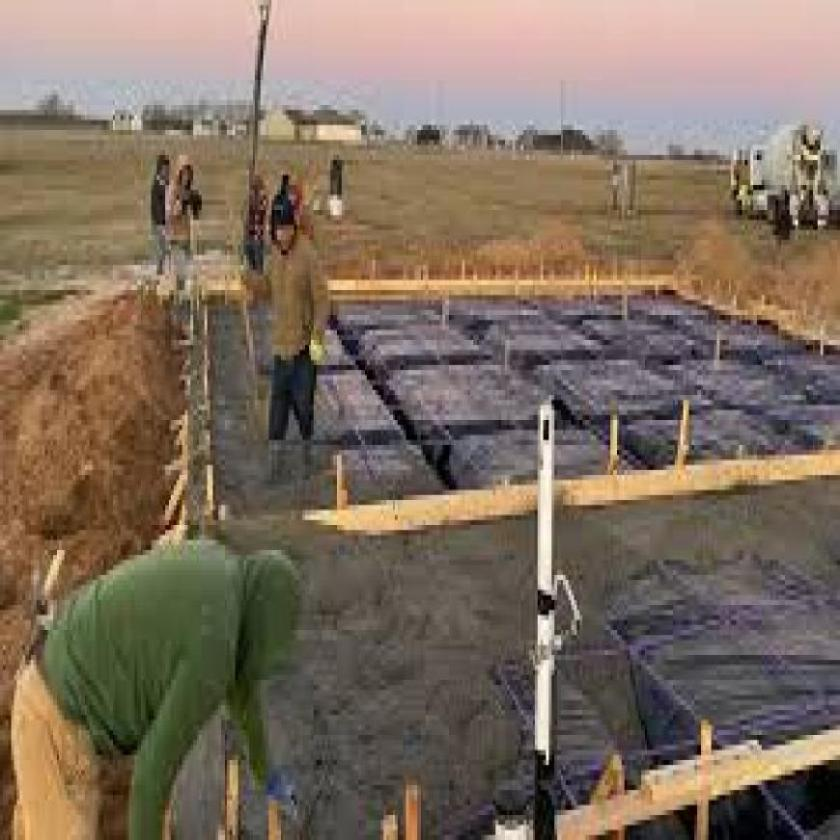Sin_casco: (266, 196, 305, 260), (174, 153, 196, 191)
